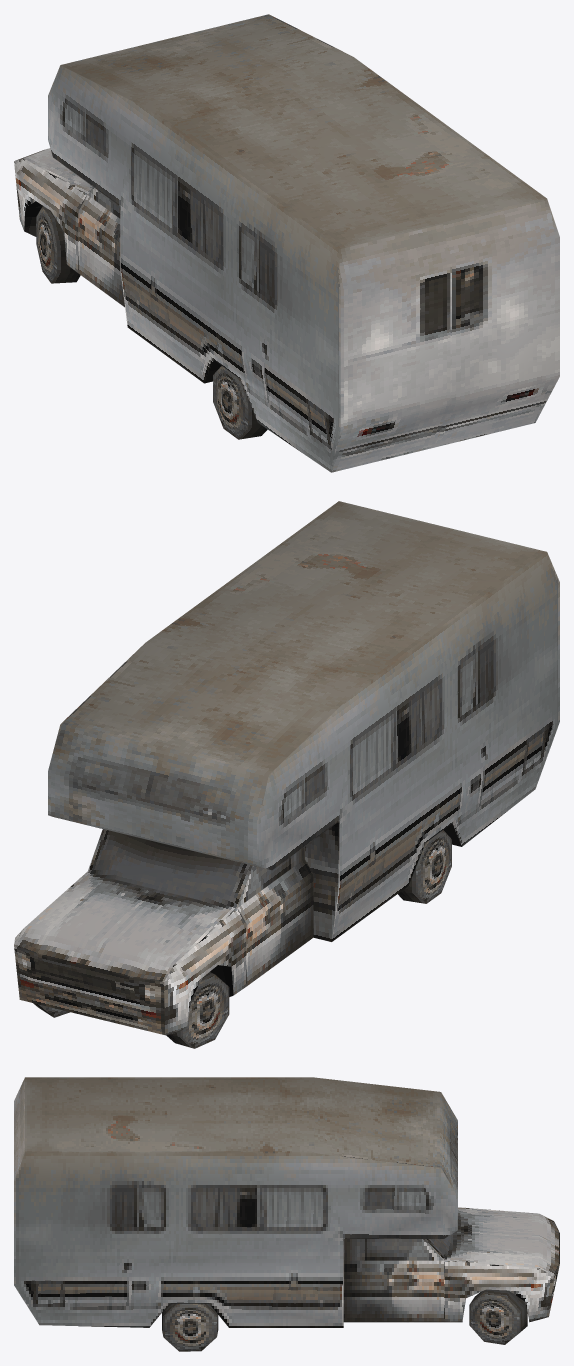
The model's file is camper_ps1_spec.glb.
3 renders of one model, top to bottom at view 1: azimuth 30°, elevation 25°; view 2: azimuth 150°, elevation 25°; view 3: azimuth 270°, elevation 25°, orthographic. The views are drawn at different scales.
Visible parts, largest first — view 1: subframe.001_0; view 2: subframe.001_0; view 3: subframe.001_0.
Boxes of the visible parts, x1,y1,x2,y2 form: subframe.001_0: (14,14,559,472); subframe.001_0: (14,501,559,1048); subframe.001_0: (14,1077,559,1351).
Bounding box in the file's own units: 2.14 × 2.5 × 6.17.
1 material, 1 textured.
